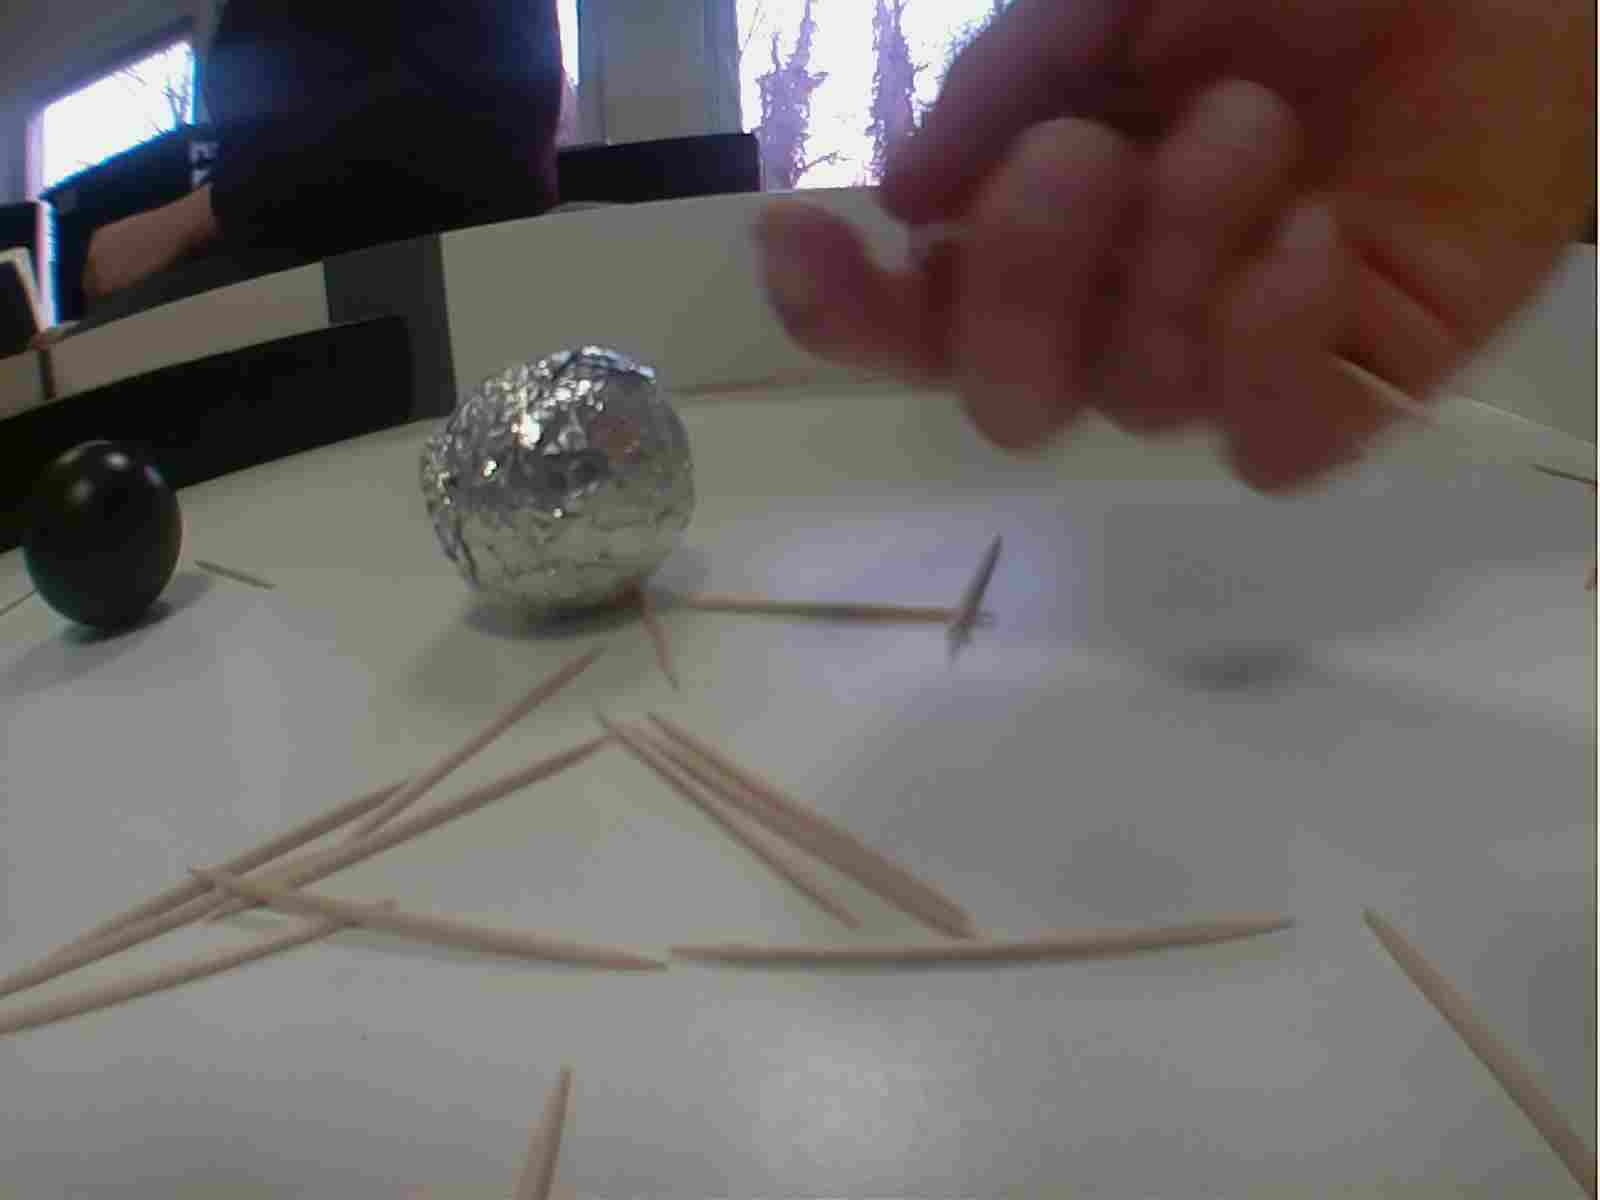bianca: (425, 344, 697, 619)
nera: (21, 436, 188, 637)
